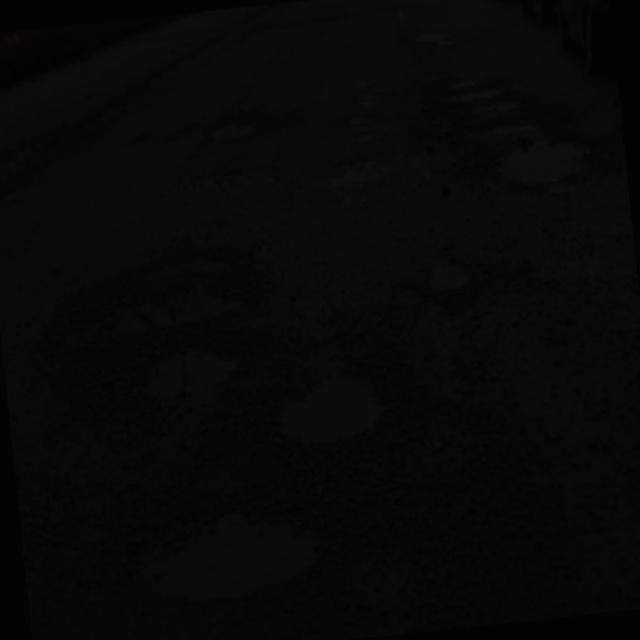Pothole: (131, 498, 326, 598), (263, 360, 389, 444), (336, 90, 426, 192), (77, 270, 263, 316), (123, 338, 242, 398), (487, 131, 602, 187), (436, 73, 520, 123), (200, 110, 277, 148), (427, 242, 477, 299), (202, 163, 286, 196), (410, 22, 458, 48)
